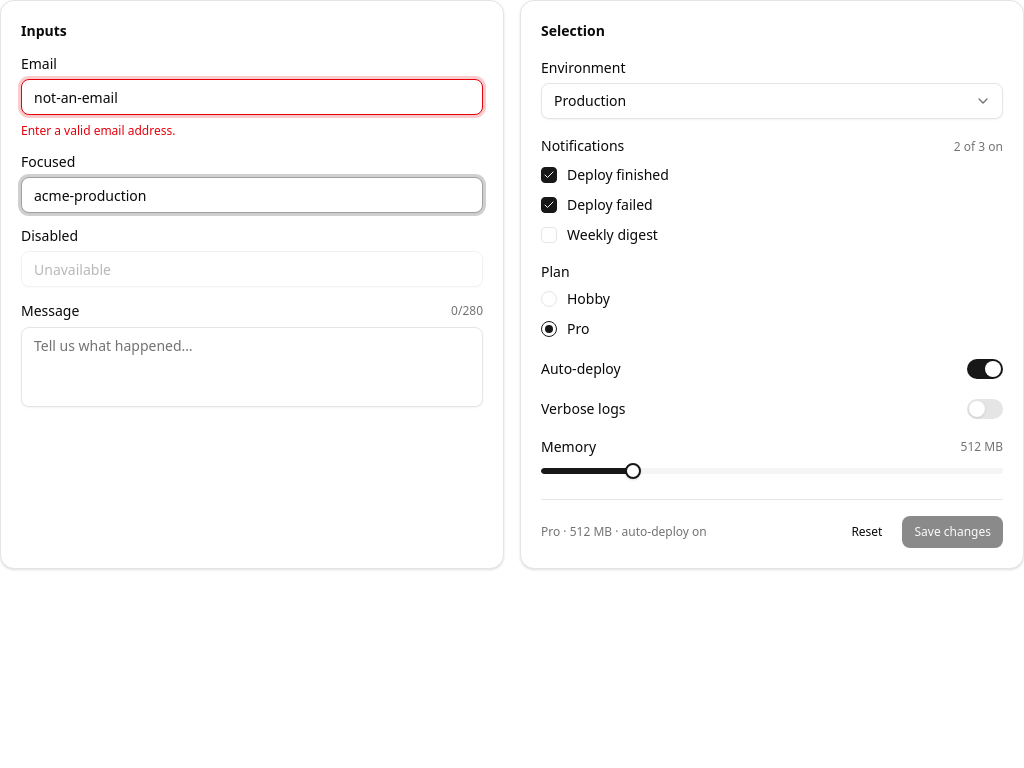
Test: the preview's layout contract › builds its toggles from real inputs, not styled spans
// The visible state rides on :checked, so the input is the thing that moves.
Click the radio button labelled "Hobby": (549, 299) [541,291,557,307]
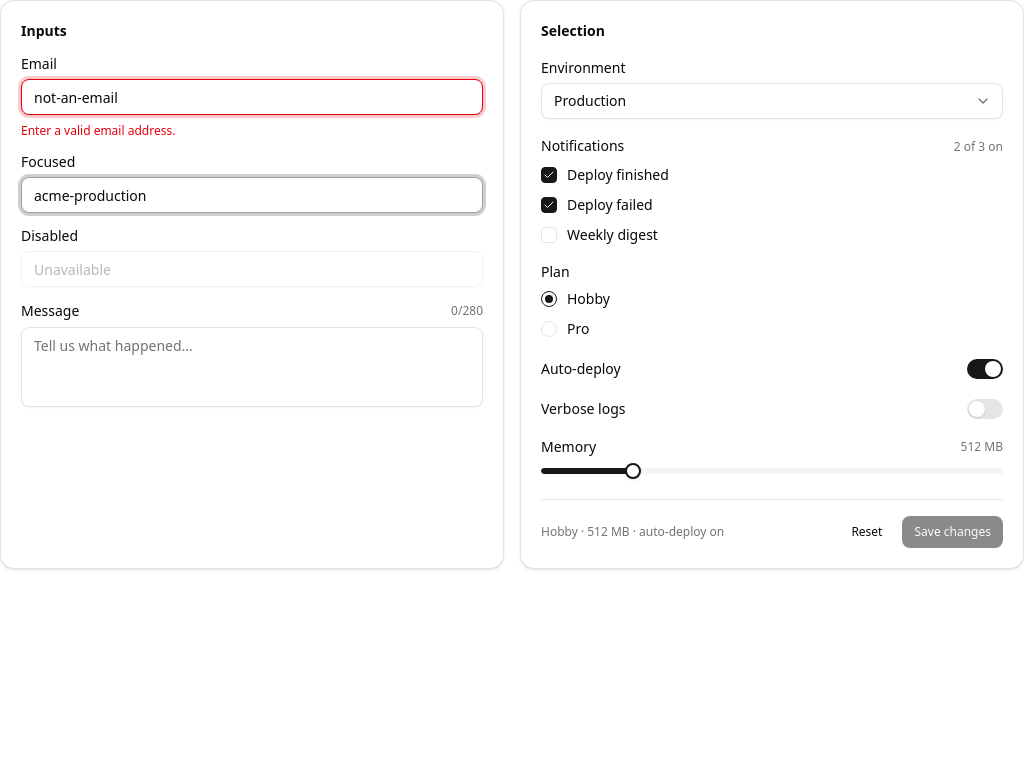
Check: the radio button labelled "Hobby" is checked, box [541,291,557,307]
Check: the radio button labelled "Pro" is not checked, box [541,321,557,337]
